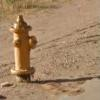Hydrant: (7, 8, 46, 86)
